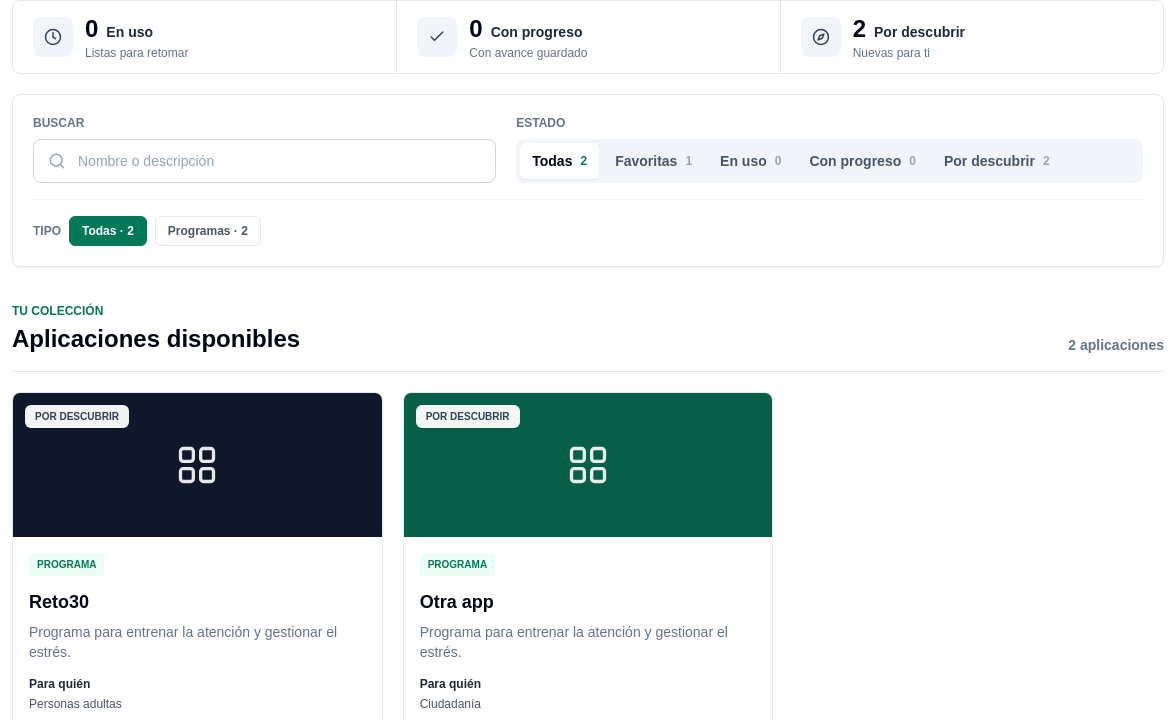
Test: ApplicationLauncher › muestra solo las favoritas y explica el guardado local
The width and height of the screenshot is (1176, 720).
Click the button "Favoritas 1".
click(654, 161)  # box [603,143,704,179]
(page scrolled)
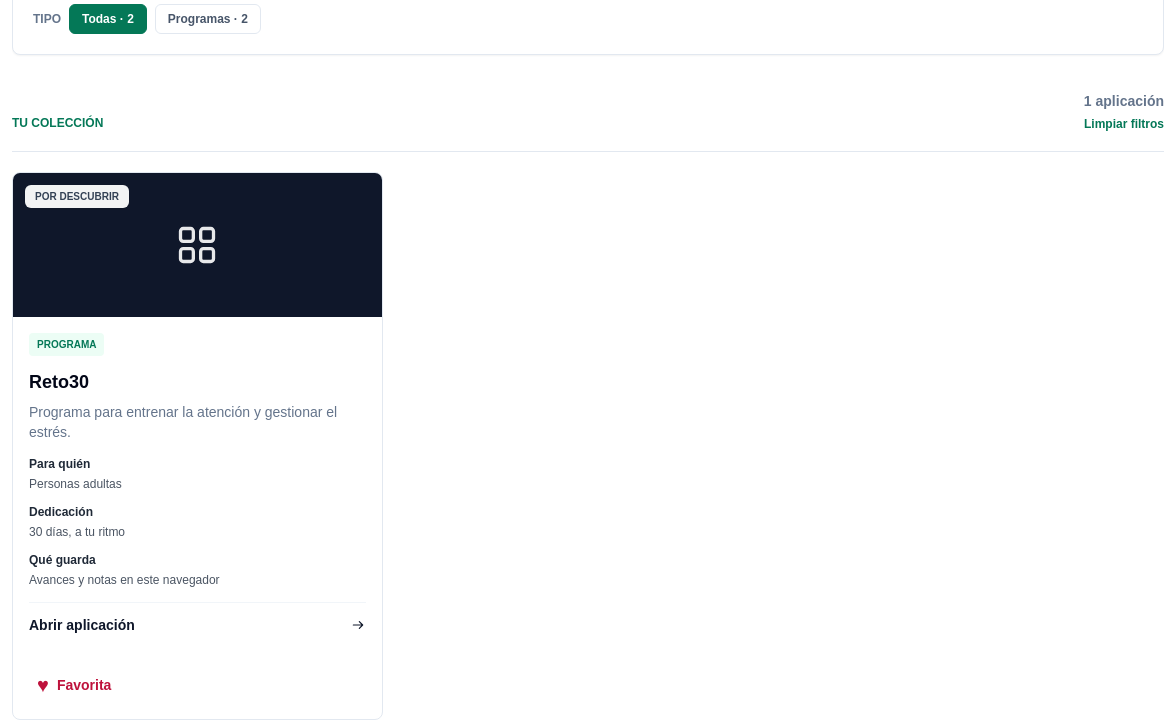
Check: the heading "Reto30" is shown, box [29,372,89,392]
Check: the link "Otra app" is gone
